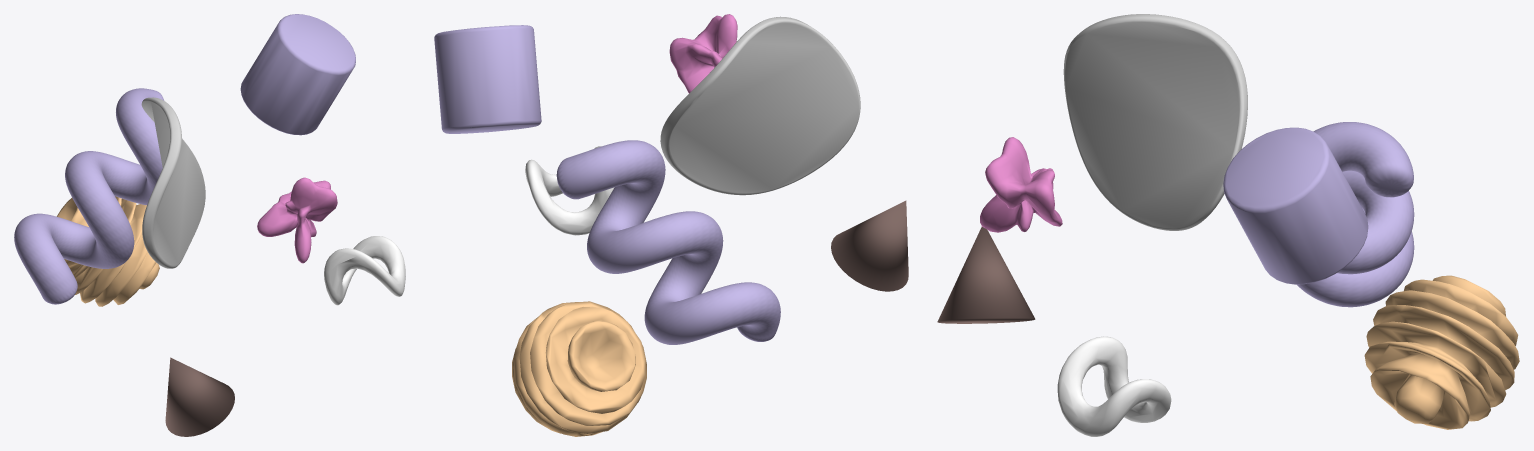
The model's file is Shapes.glb.
3 renders of one model, left to right at view 1: azimuth 30°, elevation 25°; view 2: azimuth 150°, elevation 25°; view 3: azimuth 270°, elevation 25°, orthographic. The views are drawn at different scales.
Visible parts, largest first — view 1: Helix, Cylinder, Cylinder.001, Icosphere.001, Cone, Icosphere, Torus; view 2: Cylinder.001, Helix, Icosphere.001, Cylinder, Cone, Icosphere, Torus; view 3: Cylinder.001, Icosphere.001, Cylinder, Helix, Torus, Cone, Icosphere.
Boxes of the visible parts, x1,y1,x2,y2 form: Helix: (14, 88, 164, 304); Cylinder: (240, 14, 355, 135); Cylinder.001: (141, 97, 205, 268); Icosphere.001: (57, 196, 159, 306); Cone: (165, 357, 234, 436); Icosphere: (257, 177, 337, 263); Torus: (324, 236, 405, 305); Cylinder.001: (660, 16, 860, 195); Helix: (556, 140, 780, 344); Icosphere.001: (512, 301, 646, 436); Cylinder: (434, 25, 541, 133); Cone: (831, 200, 908, 291); Icosphere: (669, 14, 737, 93); Torus: (525, 146, 614, 235); Cylinder.001: (1063, 14, 1247, 230); Icosphere.001: (1364, 275, 1519, 429); Cylinder: (1223, 127, 1368, 284); Helix: (1297, 122, 1414, 307); Torus: (1057, 336, 1171, 436); Cone: (937, 226, 1035, 323); Icosphere: (980, 137, 1062, 232).
Size of the model in its own units: 5.36 by 4.79 by 6.72.
